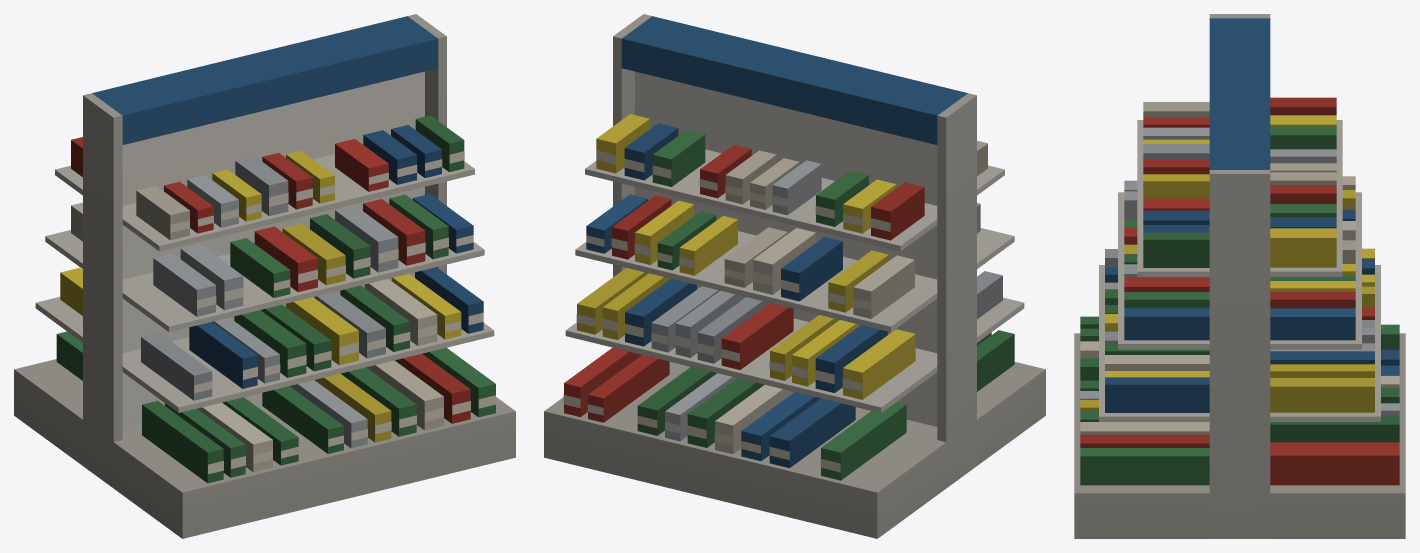
File: shelf.gondola.tins.glb
The picture shows the model from 3 angles, left to right: view 1: azimuth 30°, elevation 25°; view 2: azimuth 150°, elevation 25°; view 3: azimuth 270°, elevation 25°; orthographic projection.
Visible parts, largest first — view 1: shelf_gondola_tins; view 2: shelf_gondola_tins; view 3: shelf_gondola_tins.
Part boxes in pixels (<box>): shelf_gondola_tins: <box>14,14,515,538</box>; shelf_gondola_tins: <box>544,14,1045,538</box>; shelf_gondola_tins: <box>1074,14,1405,538</box>.
Size of what is drawn, in the model's own units: 1.88 by 2 by 1.65.
